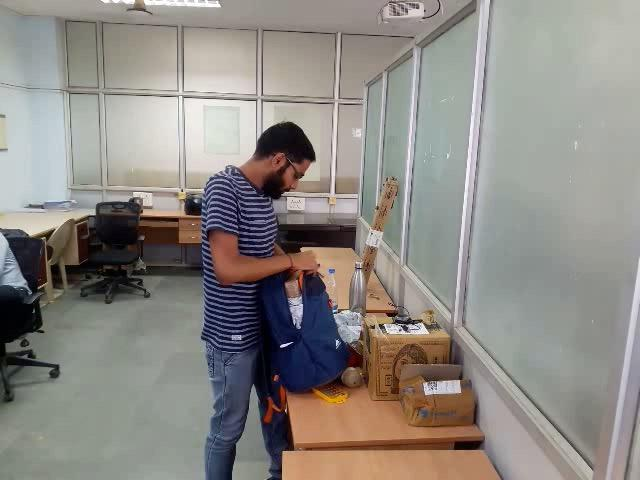shoplifting: (188, 251, 369, 352)
